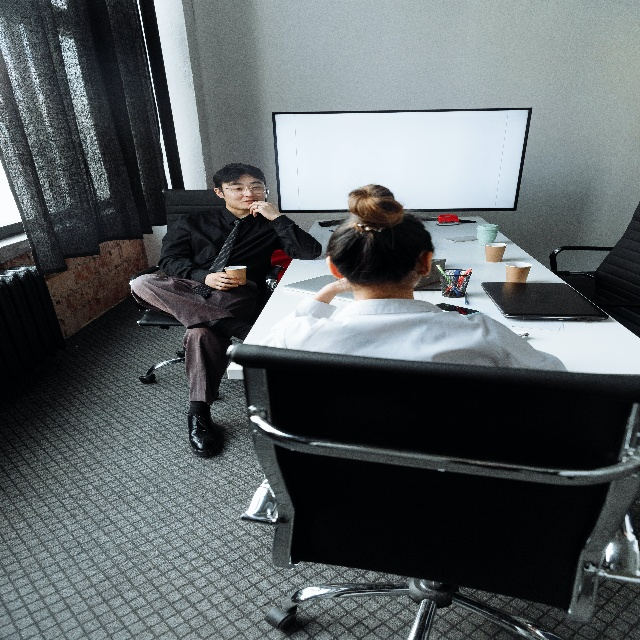Gafas: (217, 183, 268, 195)
Sin_guantes: (247, 196, 279, 221), (204, 273, 242, 290)
